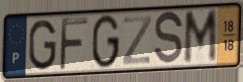F: (58, 16, 90, 73)
G: (90, 13, 122, 71), (27, 18, 58, 73)
M: (182, 8, 218, 67)
S: (152, 9, 185, 68)
Z: (121, 14, 154, 67)
